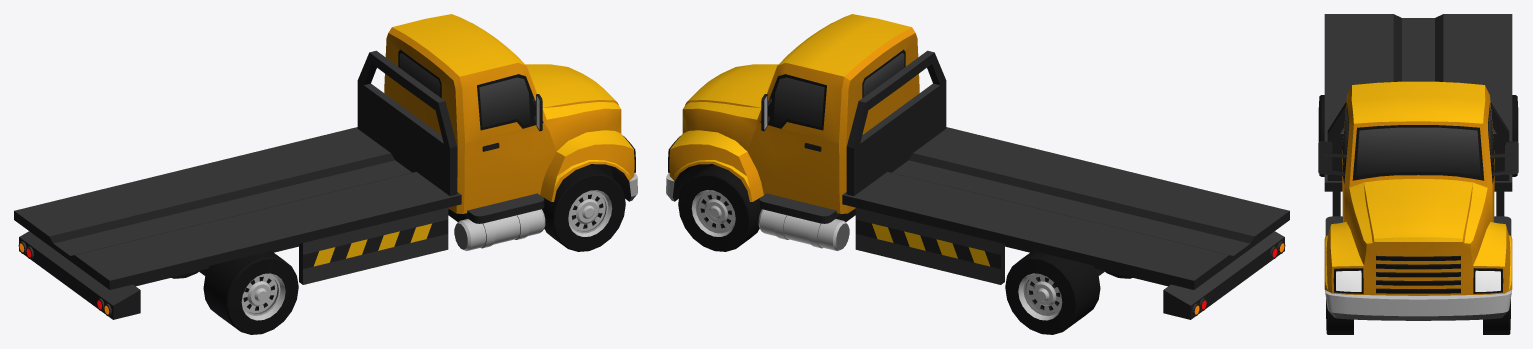
The model's file is Emergency_007.glb.
3 views of the same model, side by side, from view 1: azimuth 30°, elevation 25°; view 2: azimuth 150°, elevation 25°; view 3: azimuth 270°, elevation 25° (orthographic).
Visible parts, largest first — view 1: Emergency_007, wheel_3_Emergency_007_Wheel_2R, wheel_1_Emergency_007_Wheel_1R; view 2: Emergency_007, wheel_2_Emergency_007_Wheel_2L, wheel_0_Emergency_007_Wheel_1L; view 3: Emergency_007, wheel_0_Emergency_007_Wheel_1L, wheel_1_Emergency_007_Wheel_1R, wheel_2_Emergency_007_Wheel_2L, wheel_3_Emergency_007_Wheel_2R.
Part boxes in pixels (x1,y1,x2,y2): Emergency_007: (14, 14, 637, 319); wheel_3_Emergency_007_Wheel_2R: (203, 251, 298, 334); wheel_1_Emergency_007_Wheel_1R: (542, 165, 625, 251); Emergency_007: (666, 14, 1289, 319); wheel_2_Emergency_007_Wheel_2L: (1005, 251, 1100, 334); wheel_0_Emergency_007_Wheel_1L: (678, 165, 761, 251); Emergency_007: (1318, 14, 1518, 320); wheel_0_Emergency_007_Wheel_1L: (1483, 299, 1510, 334); wheel_1_Emergency_007_Wheel_1R: (1326, 299, 1353, 334); wheel_2_Emergency_007_Wheel_2L: (1512, 95, 1518, 176); wheel_3_Emergency_007_Wheel_2R: (1318, 95, 1324, 176).
Size of the model in its own units: 7.14 by 2.5 by 2.34.
Materials: 2 (2 with a texture image).
